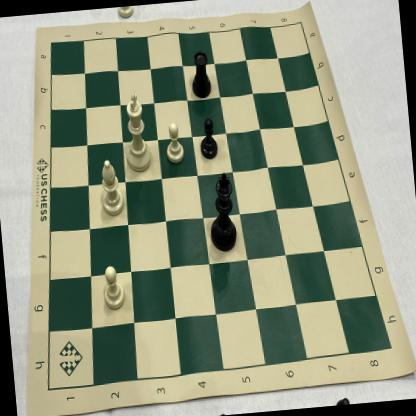bishop: (96, 156, 127, 219)
king: (204, 170, 242, 257), (122, 92, 154, 176)
pawn: (100, 262, 127, 312), (162, 118, 186, 166), (197, 118, 219, 165)
rook: (187, 48, 214, 102)
